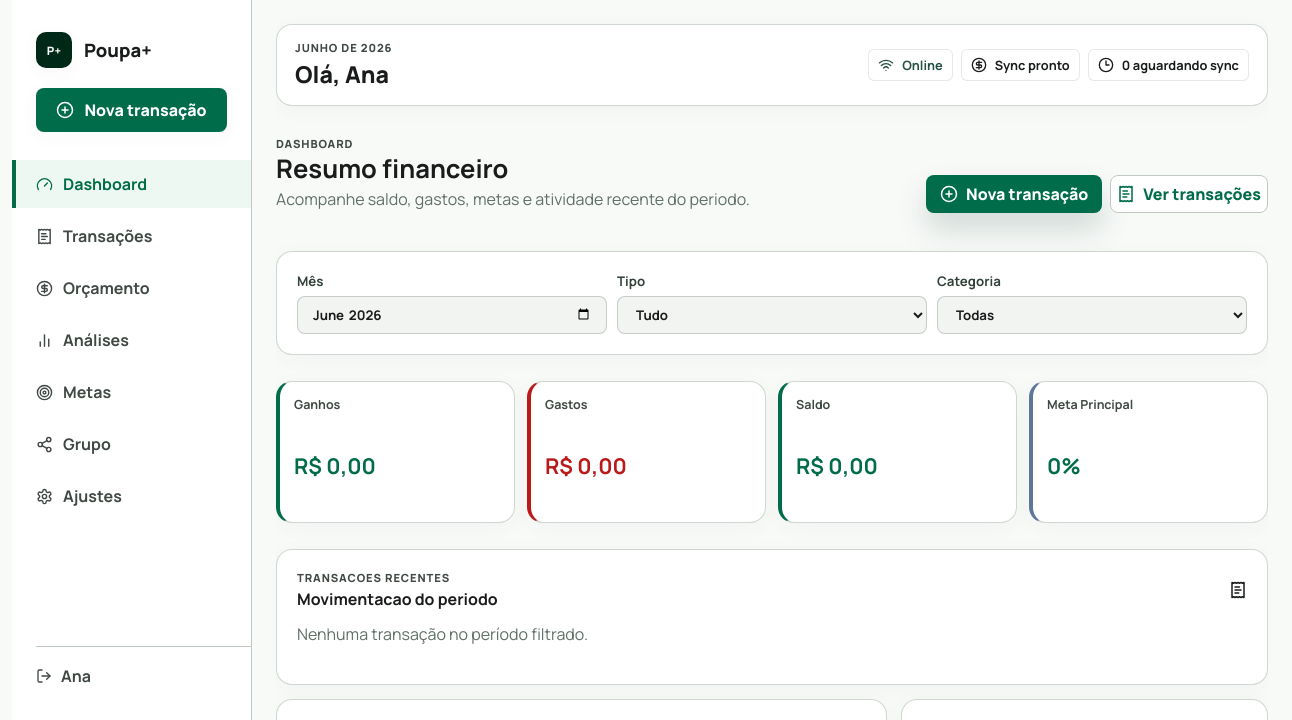
Test: Dashboard › replaces the import tab with the goals tab
Click the tab "Metas" at (132, 392), box [12, 368, 251, 416]
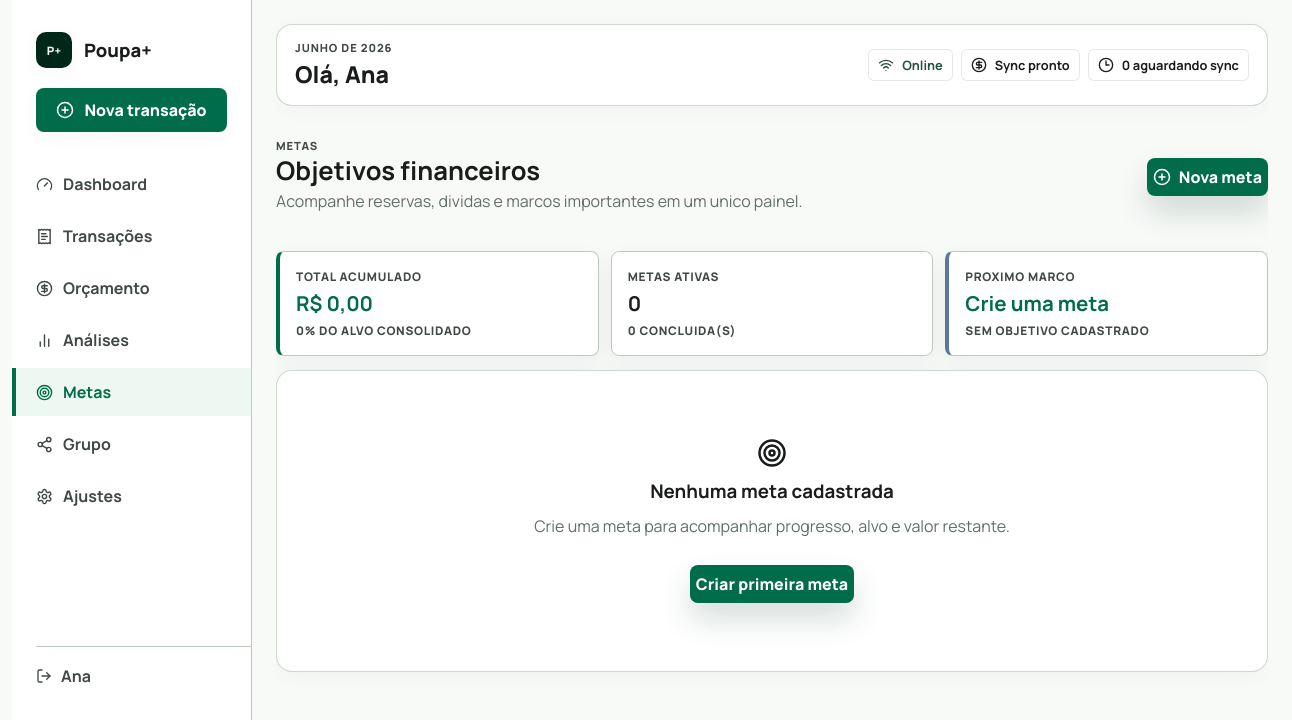
Expected: the heading "Objetivos financeiros" is shown, [276, 153, 540, 188]
Expected: the heading "Nenhuma meta cadastrada" is shown, [650, 478, 894, 504]
